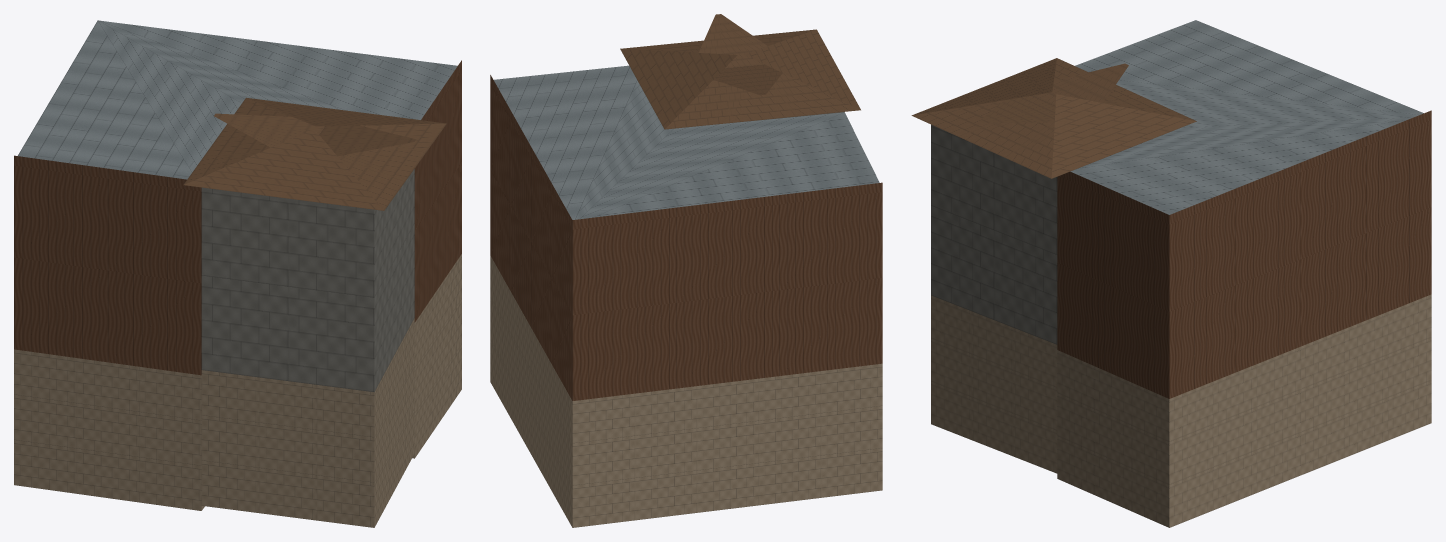
File: bld_c6_1_538.gltf
The picture shows the model from 3 angles, left to right: view 1: azimuth 30°, elevation 25°; view 2: azimuth 150°, elevation 25°; view 3: azimuth 270°, elevation 25°; orthographic projection. The views are drawn at different scales.
Parts seen in each view (by area): view 1: bld_c6_1_538; view 2: bld_c6_1_538; view 3: bld_c6_1_538.
Part boxes in pixels (left/top/right/bottom): bld_c6_1_538: left=14, top=20, right=461, bottom=527; bld_c6_1_538: left=490, top=14, right=882, bottom=527; bld_c6_1_538: left=911, top=20, right=1431, bottom=527.
Size of the model in its own units: 17.06 by 13.4 by 18.66.
Materials: 6 (6 with a texture image).
